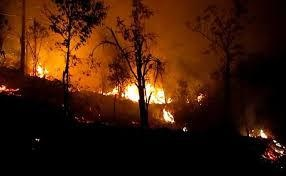fire: (105, 74, 173, 107), (244, 124, 284, 157), (34, 59, 53, 79)
